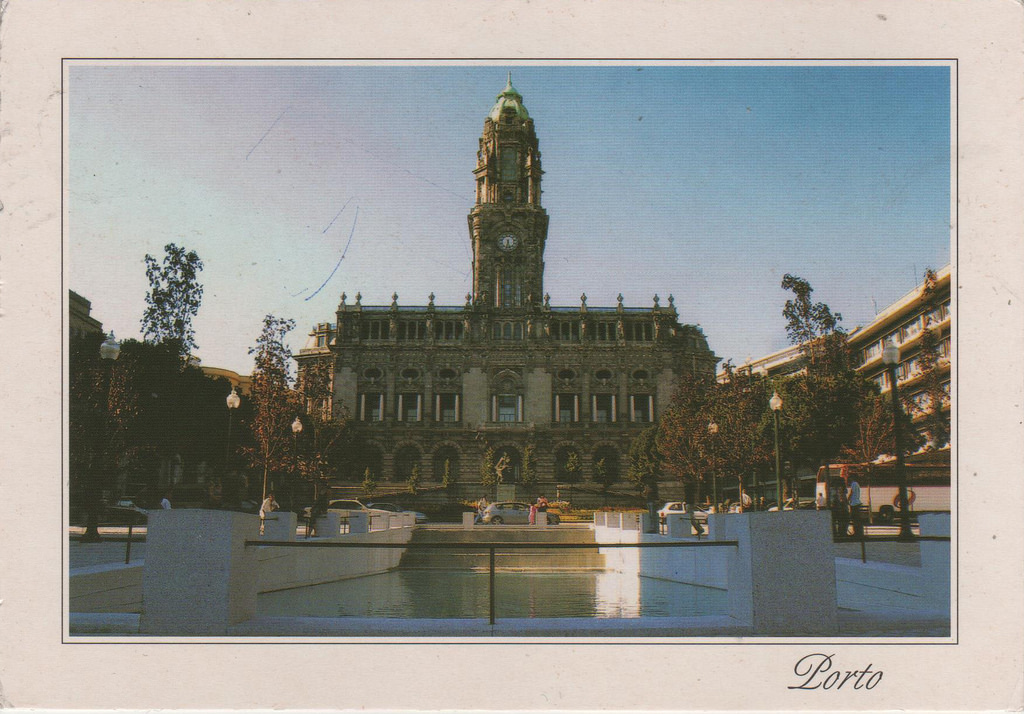camara: (291, 69, 725, 501)
